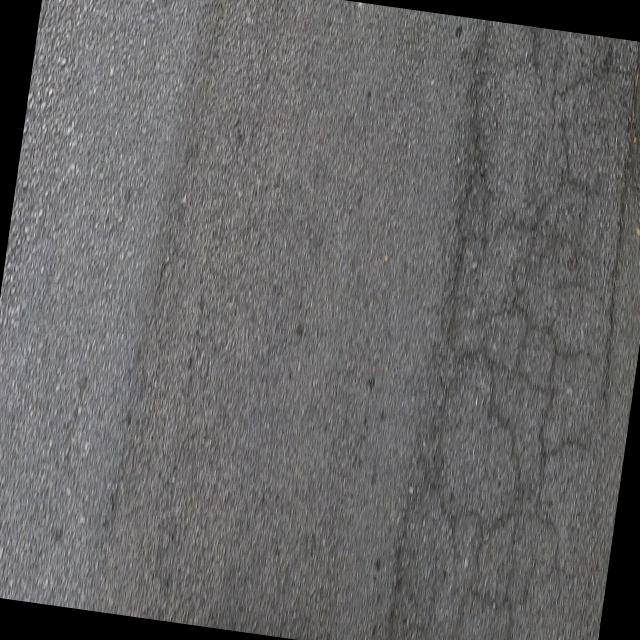Retak-Buaya: (427, 20, 640, 640)
